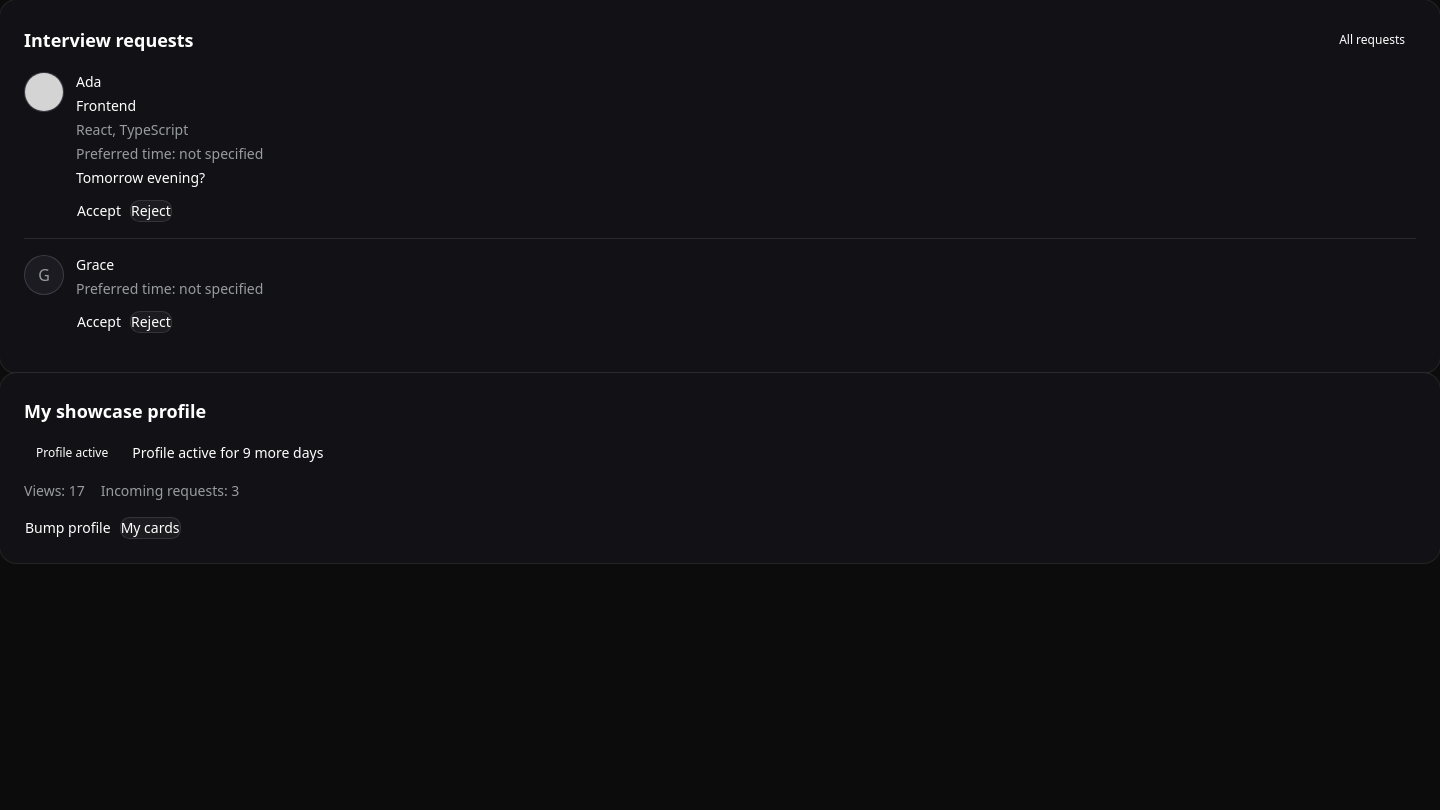
Scenario: Заявки на интервью (DashboardMatchRequests) › откатывает одну заявку, не восстанавливая другую успешно обработанную параллельную заявку
Expected: the text "Ada" is shown, [76,72,101,91]
Click the button "Accept" below "Tomorrow evening?" at {"x": 99, "y": 211}, box [76,200,122,222]
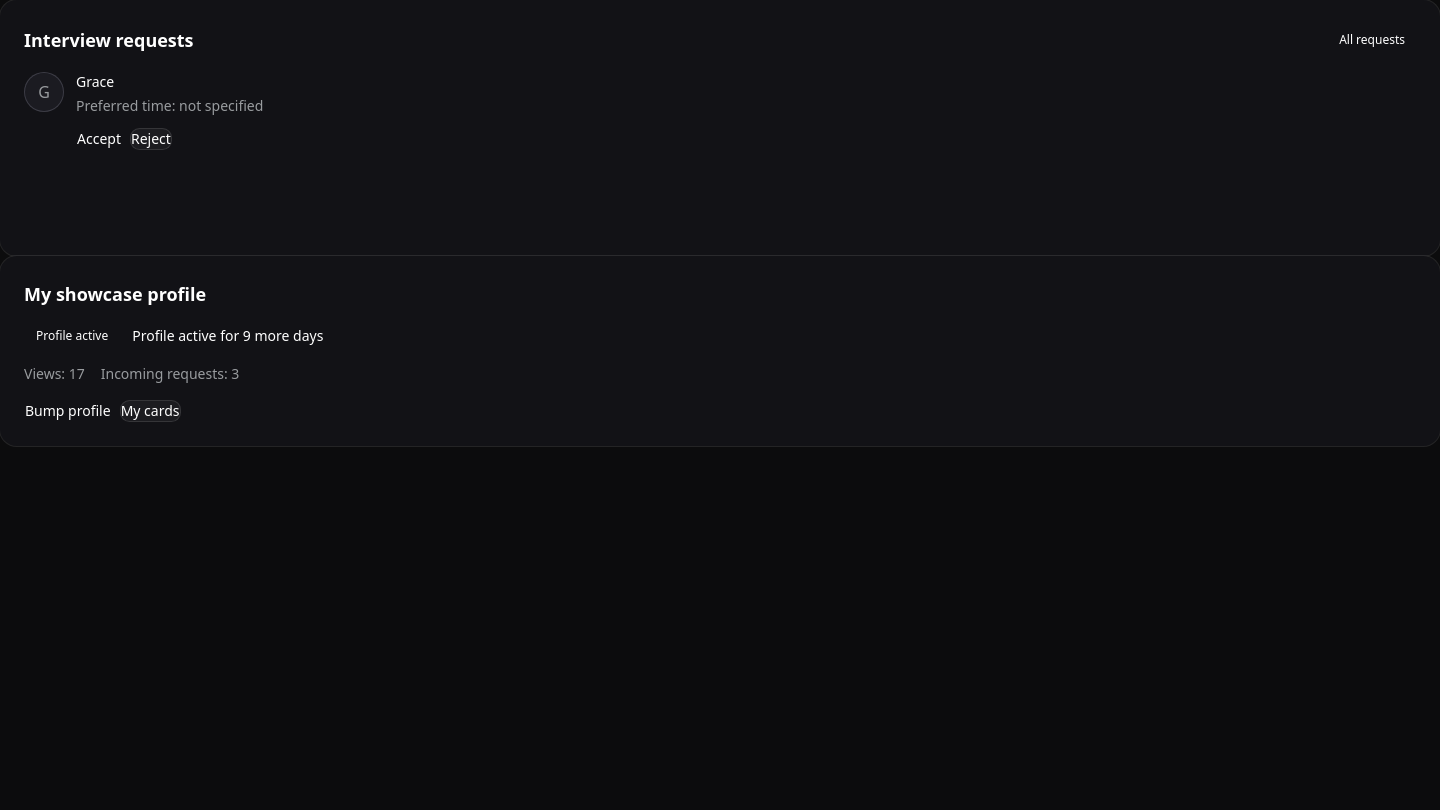
Click the button "Reject" at {"x": 151, "y": 139}, box [130,128,172,150]
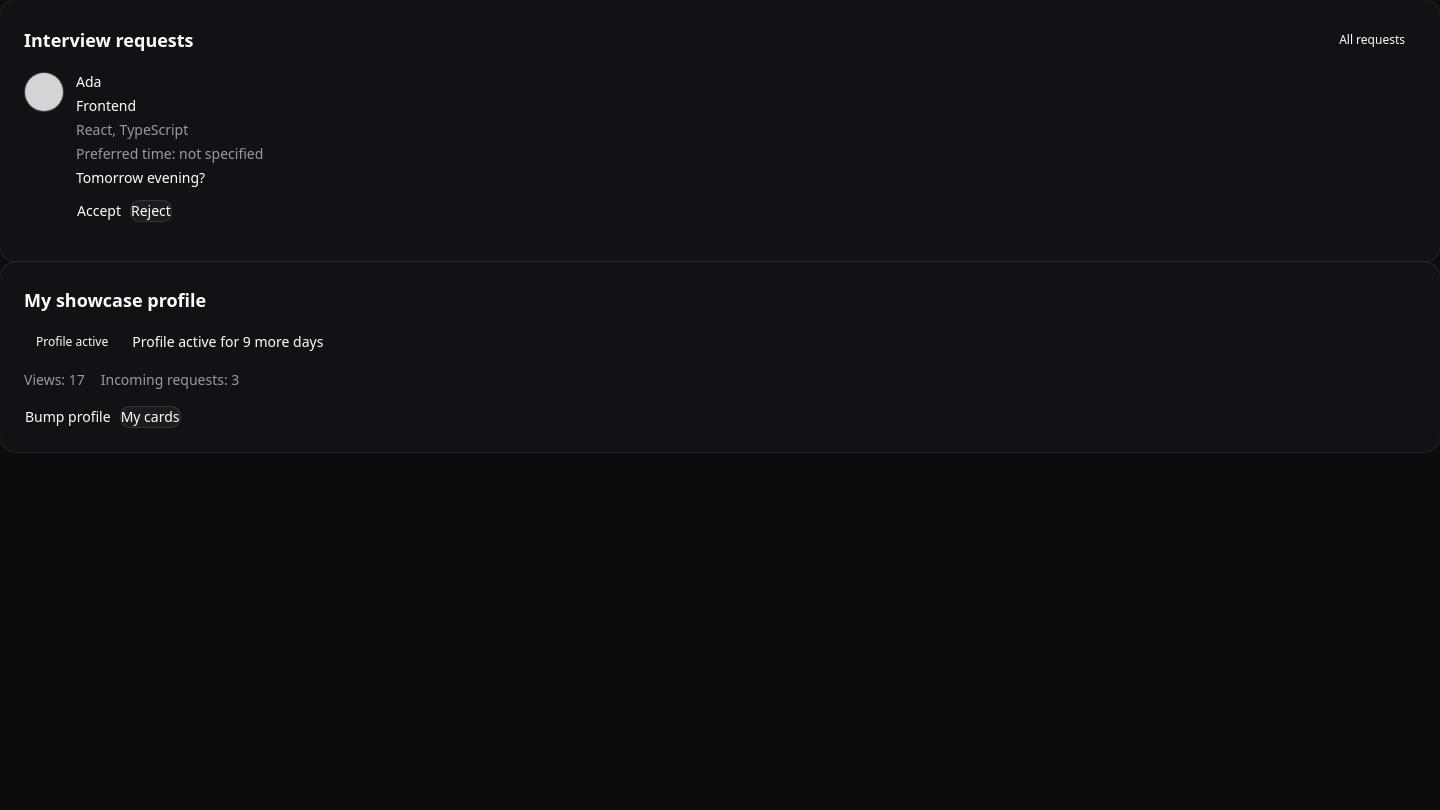
Expected: the text "Ada" is shown, [76,72,101,91]
Expected: the text "Grace" is gone
